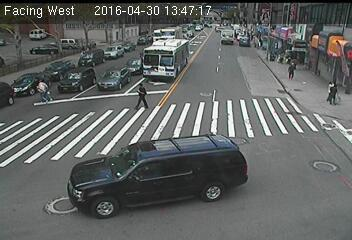neg: (142, 35, 175, 79), (165, 137, 193, 173), (312, 34, 338, 68), (48, 186, 72, 218), (312, 152, 336, 183), (22, 25, 45, 56), (219, 29, 233, 47), (272, 30, 286, 48), (245, 37, 258, 54)
pos: (127, 81, 150, 112), (33, 78, 51, 103), (328, 84, 344, 105), (286, 61, 299, 78)
